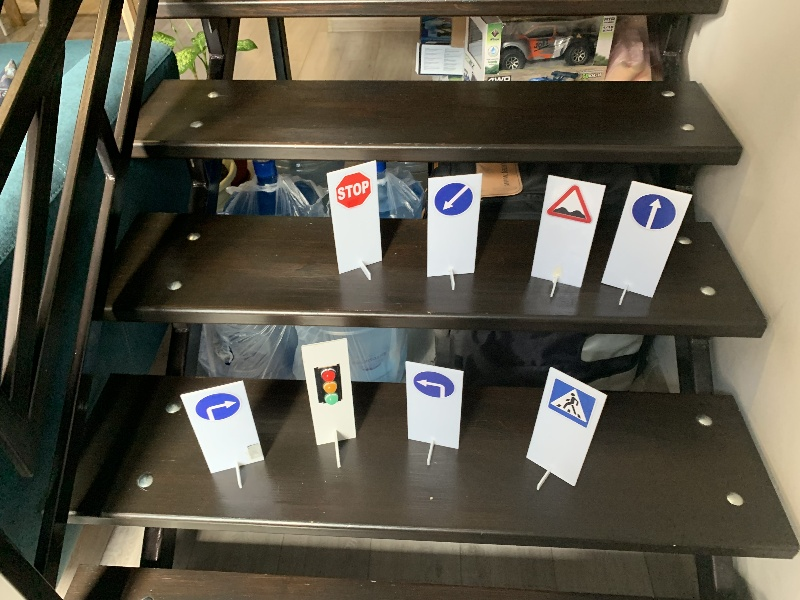Left: (411, 368, 455, 399)
Nerov: (548, 183, 593, 227)
Right: (196, 393, 239, 422)
Stop: (337, 173, 372, 209)
forw: (631, 194, 677, 232)
pesh: (547, 380, 596, 429)
prep: (433, 183, 474, 215)
